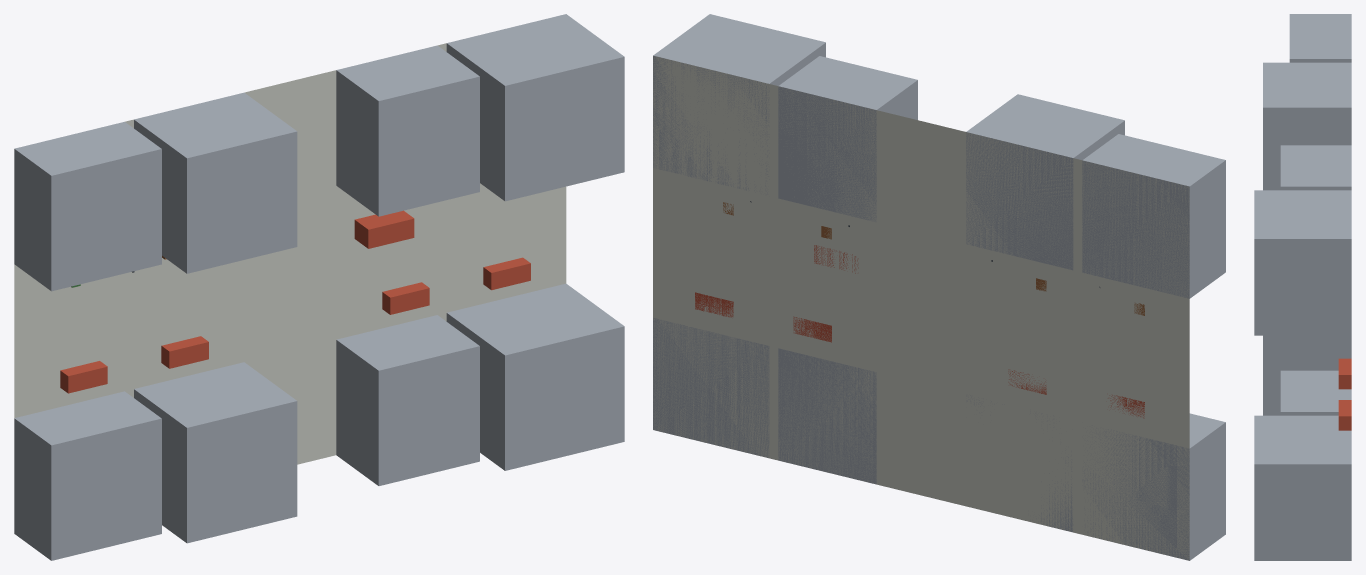
File: street-block.obj
The picture shows the model from 3 angles, left to right: view 1: azimuth 30°, elevation 25°; view 2: azimuth 150°, elevation 25°; view 3: azimuth 270°, elevation 25°; orthographic projection. The views are drawn at different scales.
Visible parts, largest first — view 1: ground-visual-only, north-building-3, south-building-3, south-building-1, north-building-1, north-building-0, south-building-0, south-building-2, north-building-2, delivery-van, parked-car-1, parked-car-0 (+2 smaller); view 2: ground-visual-only, north-building-0, north-building-1, north-building-2, south-building-0, south-building-3, north-building-3, south-building-2, south-building-1; view 3: north-building-3, south-building-3, north-building-1, south-building-1, north-building-2, north-building-0, south-building-2, parked-car-2, parked-car-3.
Part boxes in pixels (x1=…): ground-visual-only: x1=14, y1=43, x2=566, y2=464; north-building-3: x1=446, y1=14, x2=624, y2=201; south-building-3: x1=446, y1=283, x2=624, y2=470; south-building-1: x1=134, y1=362, x2=297, y2=543; north-building-1: x1=134, y1=92, x2=297, y2=273; north-building-0: x1=14, y1=122, x2=161, y2=291; south-building-0: x1=14, y1=391, x2=161, y2=560; south-building-2: x1=336, y1=315, x2=479, y2=485; north-building-2: x1=336, y1=45, x2=479, y2=216; delivery-van: x1=354, y1=210, x2=414, y2=248; parked-car-1: x1=161, y1=336, x2=208, y2=368; parked-car-0: x1=60, y1=361, x2=107, y2=393; ground-visual-only: x1=653, y1=56, x2=1189, y2=560; north-building-0: x1=1082, y1=134, x2=1225, y2=298; north-building-1: x1=966, y1=94, x2=1124, y2=270; north-building-2: x1=778, y1=56, x2=917, y2=221; south-building-0: x1=1082, y1=413, x2=1225, y2=560; south-building-3: x1=653, y1=318, x2=769, y2=458; north-building-3: x1=653, y1=14, x2=825, y2=194; south-building-2: x1=778, y1=348, x2=876, y2=484; south-building-1: x1=966, y1=395, x2=1073, y2=532; north-building-3: x1=1254, y1=190, x2=1351, y2=335; south-building-3: x1=1254, y1=415, x2=1351, y2=560; north-building-1: x1=1263, y1=62, x2=1351, y2=190; south-building-1: x1=1263, y1=335, x2=1351, y2=415; north-building-2: x1=1280, y1=145, x2=1351, y2=190; north-building-0: x1=1289, y1=14, x2=1351, y2=62; south-building-2: x1=1280, y1=370, x2=1351, y2=415; parked-car-2: x1=1338, y1=358, x2=1351, y2=389; parked-car-3: x1=1338, y1=400, x2=1351, y2=430.
Bounding box in the file's own units: 60 × 40 × 11.
